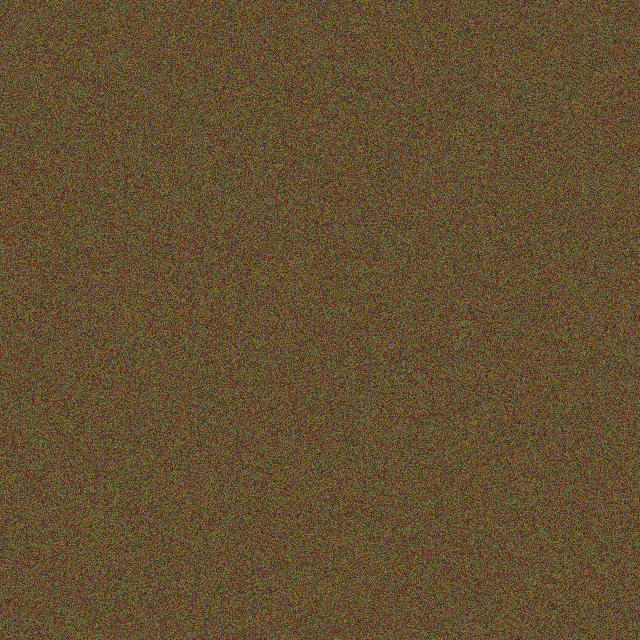metal_debris: (125, 471, 181, 510)
